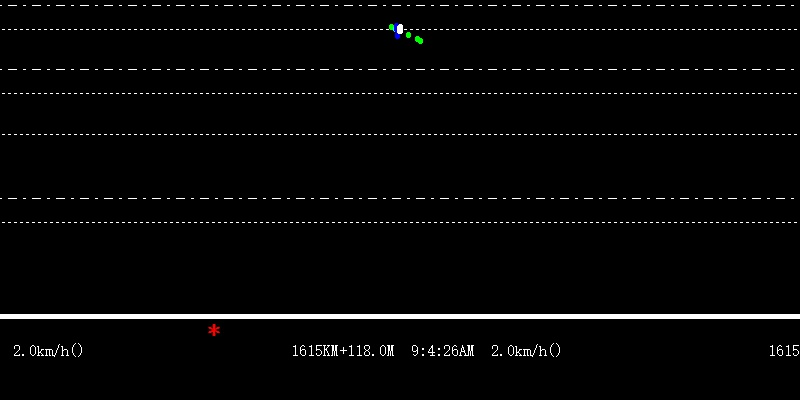face_down: (412, 25, 426, 46)
face_s: (393, 19, 405, 41)
star: (206, 322, 221, 337)
